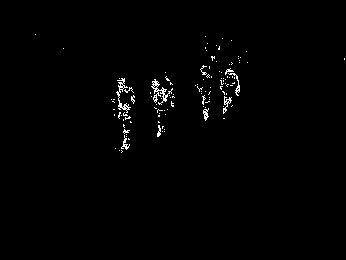person: (109, 72, 136, 154), (149, 71, 177, 136), (195, 64, 214, 122), (220, 66, 240, 119)
